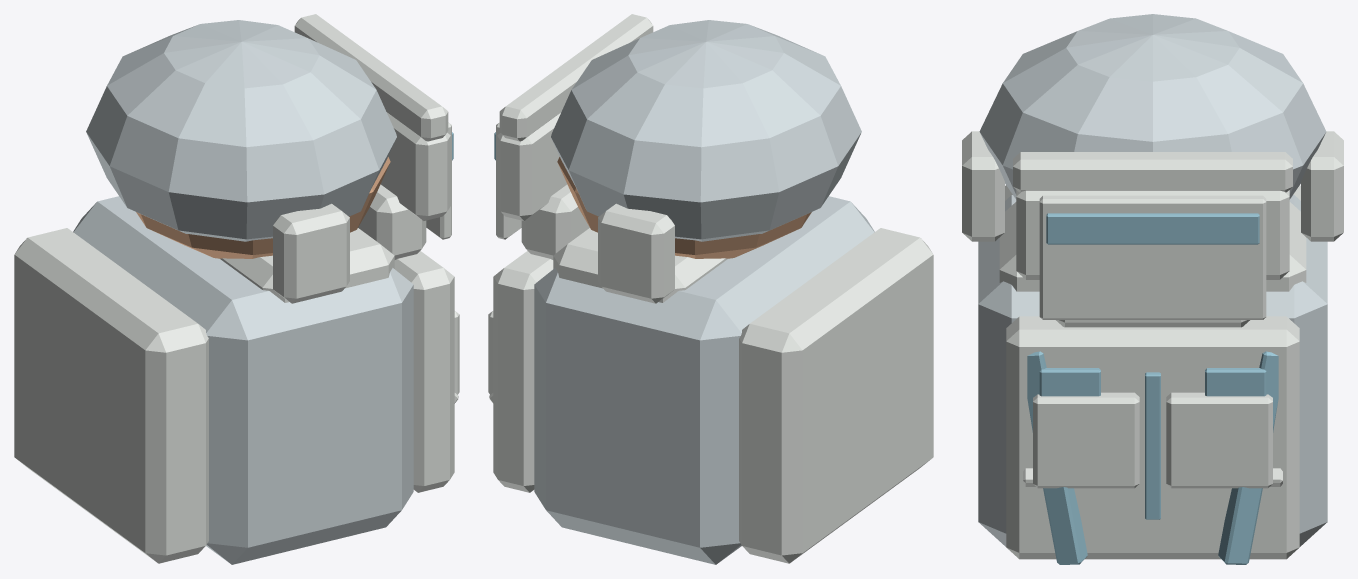
The model's file is steel-recon.aegis.glb.
3 renders of one model, left to right at view 1: azimuth 30°, elevation 25°; view 2: azimuth 150°, elevation 25°; view 3: azimuth 270°, elevation 25°, orthographic. The views are drawn at different scales.
Visible parts, largest first — view 1: steel-recon_aegis__aegis-arctic__torso_finish_e5e9e5_0.03, steel-recon_aegis__aegis-arctic__torso_finish_d1dbdf_0.03, steel-recon_aegis__aegis-arctic__head_finish_d1dbdf_0.03, steel-recon_aegis__aegis-arctic__head_finish_e5e9e5_0.03, steel-recon_aegis__aegis-arctic__head_finish_e2b28e_0.03; view 2: steel-recon_aegis__aegis-arctic__torso_finish_e5e9e5_0.03, steel-recon_aegis__aegis-arctic__torso_finish_d1dbdf_0.03, steel-recon_aegis__aegis-arctic__head_finish_d1dbdf_0.03, steel-recon_aegis__aegis-arctic__head_finish_e5e9e5_0.03, steel-recon_aegis__aegis-arctic__head_finish_e2b28e_0.03; view 3: steel-recon_aegis__aegis-arctic__torso_finish_e5e9e5_0.03, steel-recon_aegis__aegis-arctic__head_finish_e5e9e5_0.03, steel-recon_aegis__aegis-arctic__head_finish_d1dbdf_0.03, steel-recon_aegis__aegis-arctic__torso_finish_d1dbdf_0.03, steel-recon_aegis__aegis-arctic__torso_finish_98c4d4_0.03, steel-recon_aegis__aegis-arctic__head_finish_98c4d4_0.03.
Boxes of the visible parts, x1,y1,x2,y2 form: steel-recon_aegis__aegis-arctic__torso_finish_e5e9e5_0.03: (14,228,459,563); steel-recon_aegis__aegis-arctic__torso_finish_d1dbdf_0.03: (73,196,413,564); steel-recon_aegis__aegis-arctic__head_finish_d1dbdf_0.03: (86,20,396,241); steel-recon_aegis__aegis-arctic__head_finish_e5e9e5_0.03: (273,14,451,303); steel-recon_aegis__aegis-arctic__head_finish_e2b28e_0.03: (136,157,390,258); steel-recon_aegis__aegis-arctic__torso_finish_e5e9e5_0.03: (488,228,933,563); steel-recon_aegis__aegis-arctic__torso_finish_d1dbdf_0.03: (534,196,874,564); steel-recon_aegis__aegis-arctic__head_finish_d1dbdf_0.03: (551,20,861,241); steel-recon_aegis__aegis-arctic__head_finish_e5e9e5_0.03: (496,14,674,303); steel-recon_aegis__aegis-arctic__head_finish_e2b28e_0.03: (557,157,811,258); steel-recon_aegis__aegis-arctic__torso_finish_e5e9e5_0.03: (999,185,1306,559); steel-recon_aegis__aegis-arctic__head_finish_e5e9e5_0.03: (962,131,1343,327); steel-recon_aegis__aegis-arctic__head_finish_d1dbdf_0.03: (979,14,1326,199); steel-recon_aegis__aegis-arctic__torso_finish_d1dbdf_0.03: (978,195,1327,546); steel-recon_aegis__aegis-arctic__torso_finish_98c4d4_0.03: (1027,351,1278,564); steel-recon_aegis__aegis-arctic__head_finish_98c4d4_0.03: (1046,213,1259,244).
Bounding box in the file's own units: 30 × 39.5 × 28.6.
